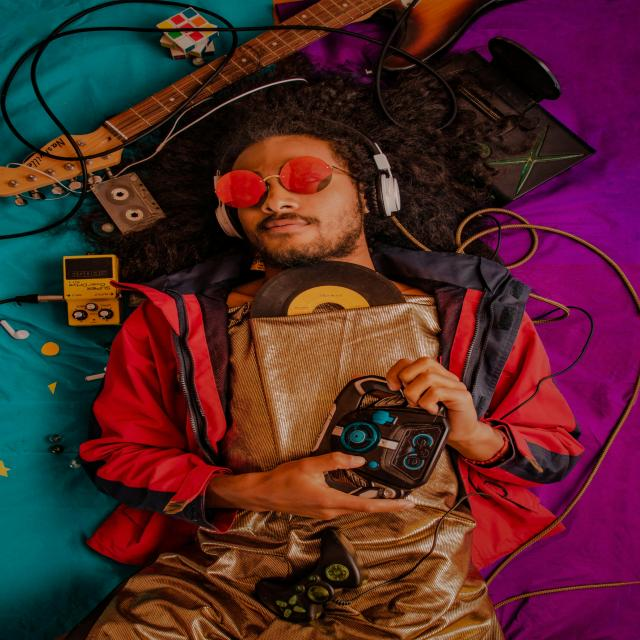lie: (131, 81, 512, 640)
